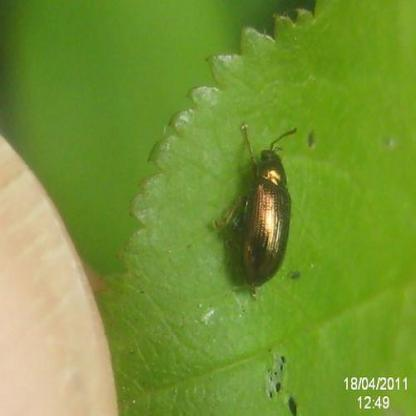beetle: (216, 110, 300, 286)
